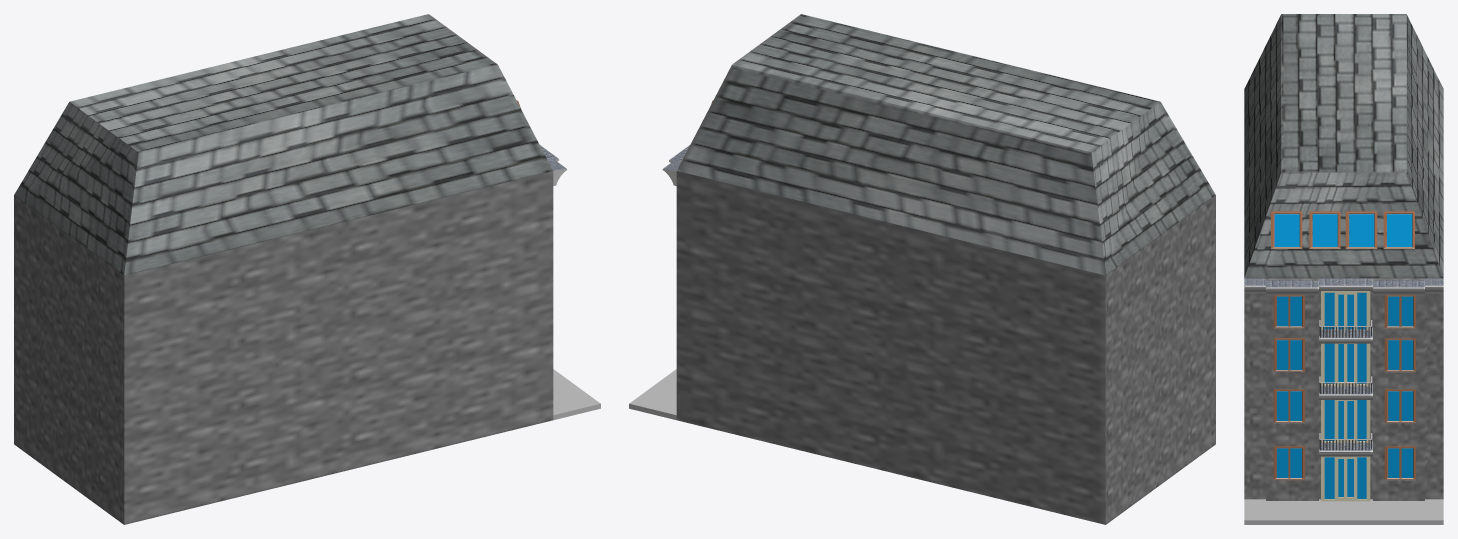
File: Huis.fbx
The picture shows the model from 3 angles, left to right: view 1: azimuth 30°, elevation 25°; view 2: azimuth 150°, elevation 25°; view 3: azimuth 270°, elevation 25°; orthographic projection. The views are drawn at different scales.
Visible parts, largest first — view 1: polySurface5; view 2: polySurface5; view 3: polySurface5.
Part boxes in pixels (x1,y1,x2,y2): polySurface5: (14,14,600,524); polySurface5: (629,14,1215,524); polySurface5: (1244,14,1443,524).
Bounding box in the file's own units: 20 × 14 × 8.
1 material, 1 textured.
